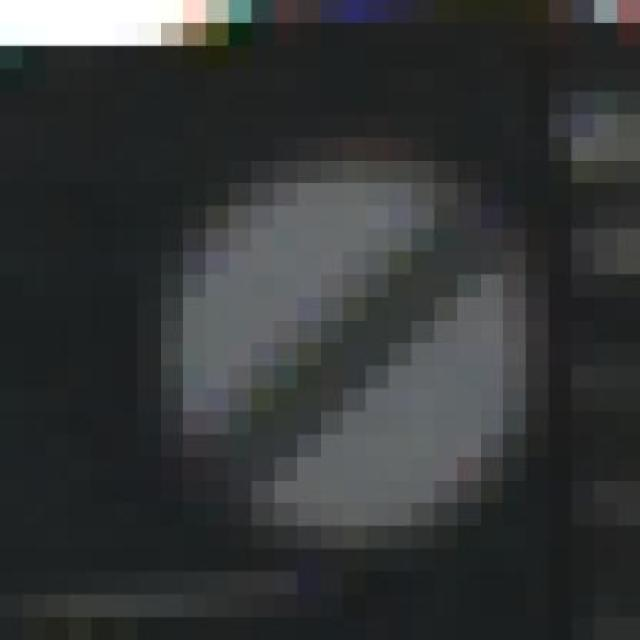End of all speed and passing limits: (114, 129, 572, 563)
